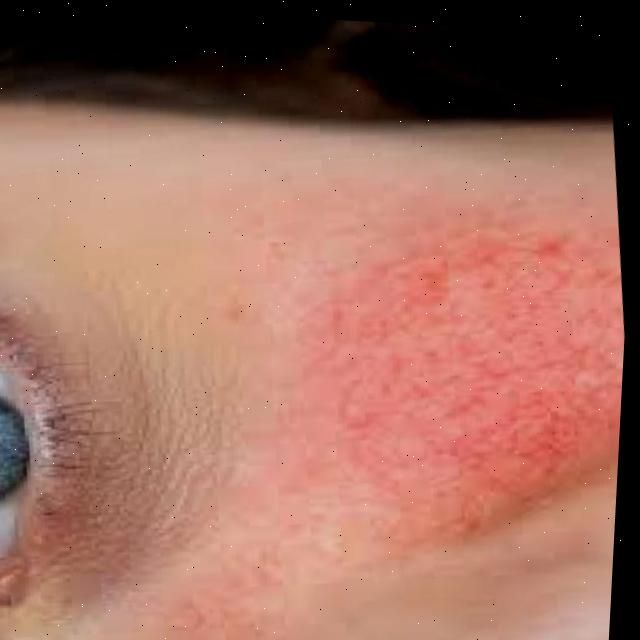Rosacea: (288, 224, 629, 537)
